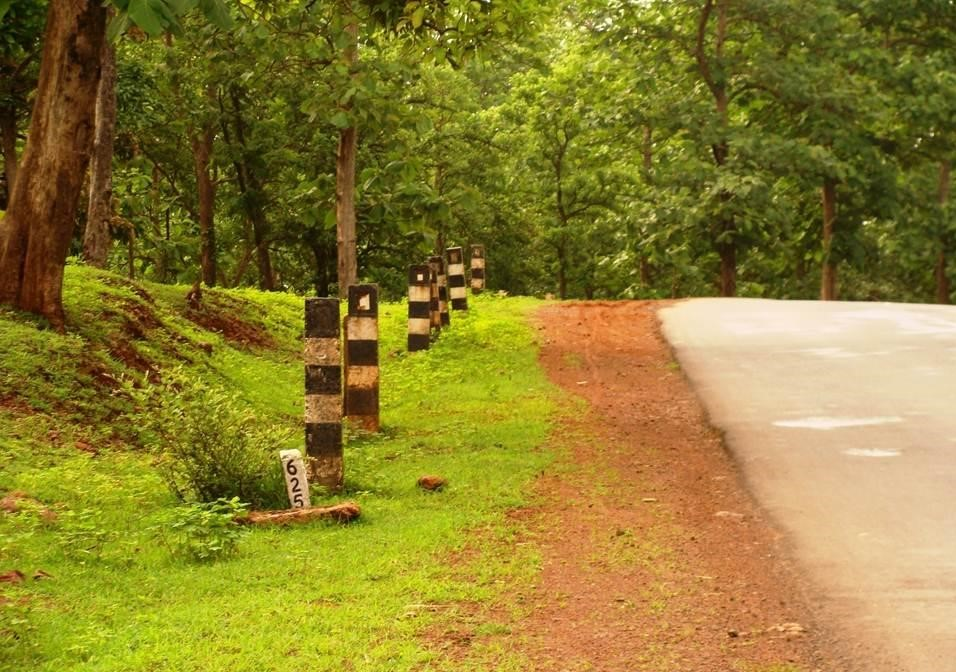Road: (653, 297, 956, 665)
